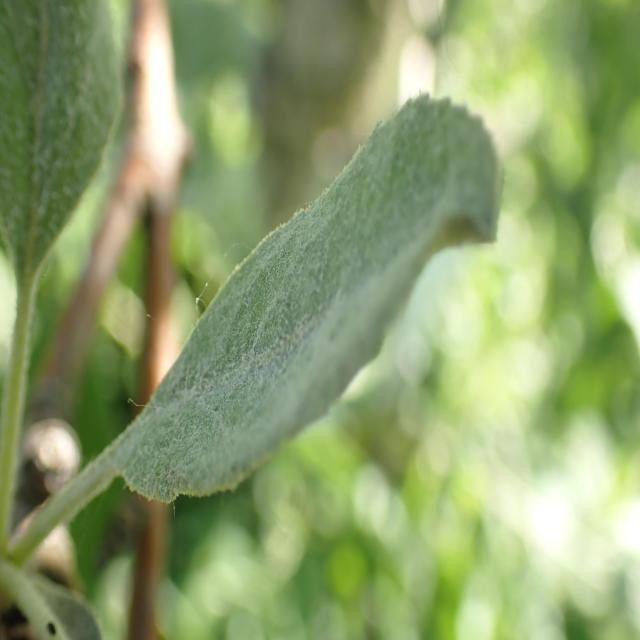Powdery_mildew: (114, 84, 522, 484), (0, 0, 126, 379)
